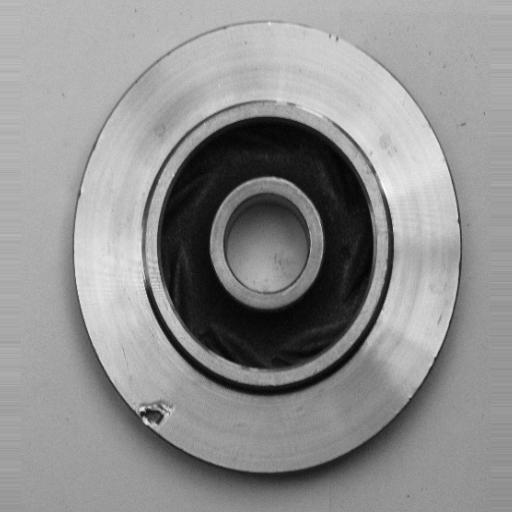crack: (123, 390, 188, 438)
unpolished_casting: (73, 19, 465, 481)
